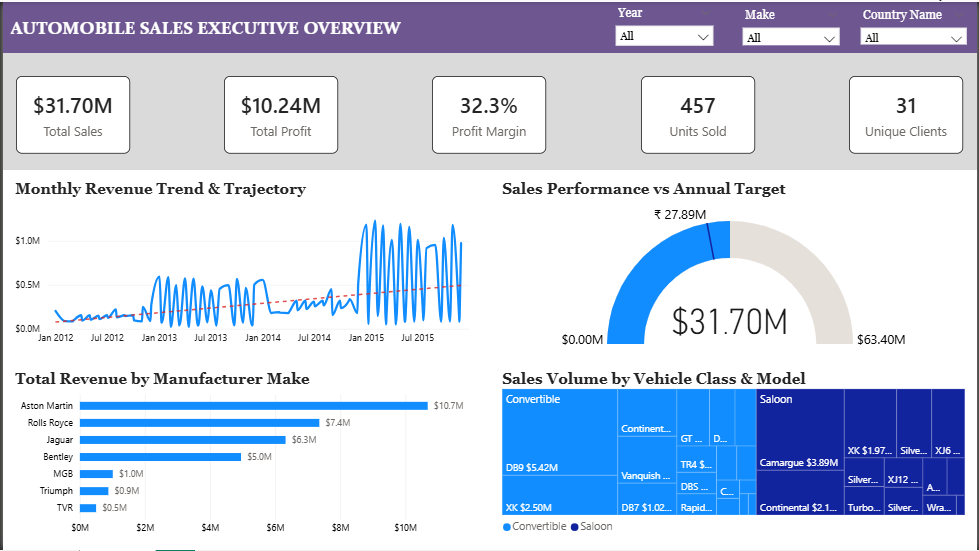

The page's visual inventory and layout, read from the dashboard file:
{"tool":"powerbi","page":{"name":"Executive Overview","canvas":[1280,720],"ordinal":0},"visuals":[{"type":"shape","box":[0,0,1279.7,67],"z":0},{"type":"card","fields":{"Values":["_Measures.Total Sales"]},"box":[17.1,97.2,149.8,102.5],"z":1000},{"type":"card","fields":{"Values":["_Measures.Total Profit"]},"box":[290.7,97.2,149.8,102.5],"z":2000},{"type":"card","fields":{"Values":["_Measures.Profit Margin %"]},"box":[564.3,97.2,149.8,102.5],"z":3000},{"type":"card","fields":{"Values":["CountNonNull(Automobile.SalePrice)"]},"box":[837.9,97.2,149.8,102.5],"z":4000},{"type":"card","fields":{"Values":["_Measures.Total Distinct Customers"]},"box":[1111.5,97.2,149.8,102.5],"z":5000},{"type":"shape","box":[0,220.7,1279.7,499.3],"z":6000},{"type":"slicer","fields":{"Values":["Date.Year"]},"box":[799.7,5.5,137.6,56.4],"z":7000},{"type":"slicer","fields":{"Values":["Automobile.Make"]},"box":[967,7.9,136.6,48.6],"z":8000},{"type":"slicer","fields":{"Values":["Automobile.CountryName"]},"box":[1121.7,8.3,148.6,48.2],"z":9000},{"type":"lineChart","title":"Monthly Revenue Trend & Trajectory","fields":{"Category":["Date.Date.Variation.Date Hierarchy.Year","Date.Date.Variation.Date Hierarchy.Quarter","Date.Date.Variation.Date Hierarchy.Month","Date.Date.Variation.Date Hierarchy.Day"],"Y":["_Measures.Total Sales"]},"box":[0,220.7,639.9,249.6],"z":10000},{"type":"gauge","title":"Sales Performance vs Annual Target","fields":{"Y":["_Measures.Total Sales"],"TargetValue":["_Measures.Sales Target"]},"box":[639.9,220.7,639.9,249.6],"z":11000},{"type":"clusteredBarChart","title":"Total Revenue by Manufacturer Make","fields":{"Category":["Automobile.Make"],"Y":["_Measures.Total Sales"]},"box":[0,470.4,639.9,249.6],"z":12000},{"type":"treemap","title":"Sales Volume by Vehicle Class & Model","fields":{"Group":["Automobile.VehicleType"],"Details":["Automobile.Model"],"Values":["_Measures.Total Sales"]},"box":[639.9,470.4,639.9,249.6],"z":13000}]}

Visuals, with their boxes in screenshot pixels (x1, y1, x2, y2), scaled from the page's 1280x720 canvas onto the 979x551 screenshot:
shape: [0,0,978,51]
card - _Measures.Total Sales: [13,74,128,153]
card - _Measures.Total Profit: [222,74,337,153]
card - _Measures.Profit Margin %: [432,74,546,153]
card - CountNonNull(Automobile.SalePrice): [641,74,755,153]
card - _Measures.Total Distinct Customers: [850,74,965,153]
shape: [0,169,978,550]
slicer - Date.Year: [612,4,717,47]
slicer - Automobile.Make: [740,6,844,43]
slicer - Automobile.CountryName: [858,6,972,43]
"Monthly Revenue Trend & Trajectory" lineChart: [0,169,489,360]
"Sales Performance vs Annual Target" gauge: [489,169,978,360]
"Total Revenue by Manufacturer Make" clusteredBarChart: [0,360,489,550]
"Sales Volume by Vehicle Class & Model" treemap: [489,360,978,550]
